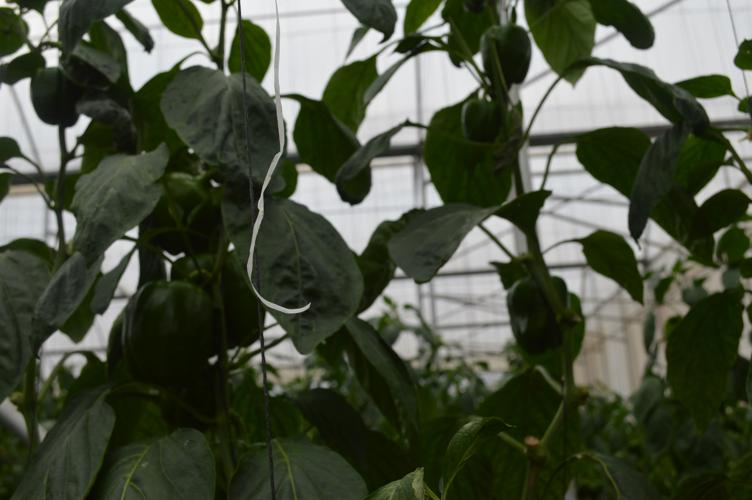BellPepper: (116, 277, 220, 386), (501, 256, 561, 353), (480, 17, 539, 87), (456, 89, 509, 143)
